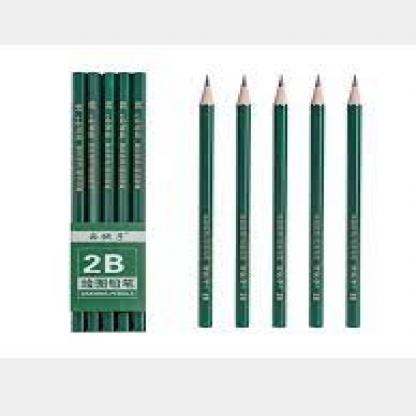pencil: (336, 72, 368, 333), (264, 73, 294, 334), (301, 73, 330, 333), (227, 73, 255, 332), (190, 74, 218, 331), (64, 69, 87, 334), (85, 70, 103, 335), (130, 72, 148, 334), (102, 72, 118, 336), (116, 70, 131, 338)
